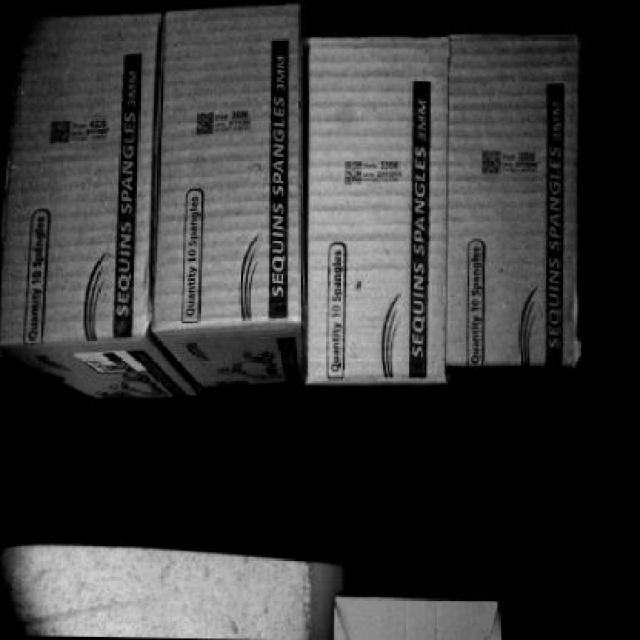cardboxes: (301, 34, 454, 380), (1, 11, 150, 351), (162, 15, 302, 332), (450, 38, 578, 358)
